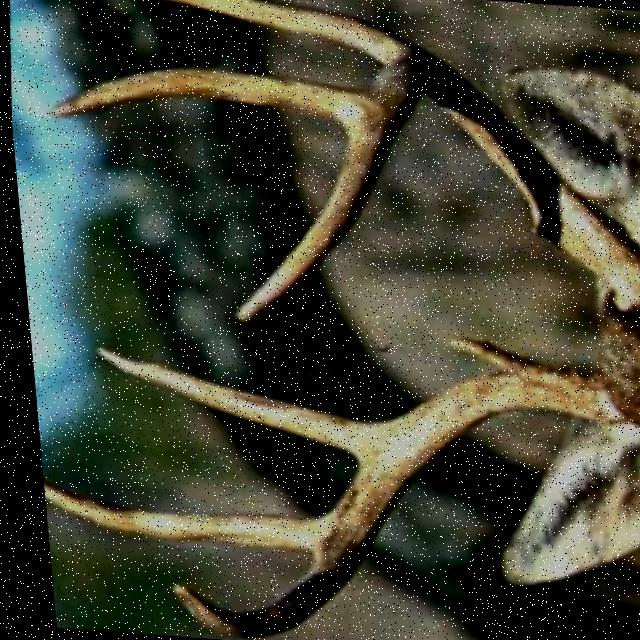L-F: (225, 53, 640, 329)
L-G1: (155, 0, 423, 64)
L-G2: (46, 67, 360, 130)
R-F: (158, 363, 617, 640)
R-G1: (439, 338, 524, 375)
R-G2: (88, 347, 373, 459)
R-G3: (34, 483, 313, 553)
